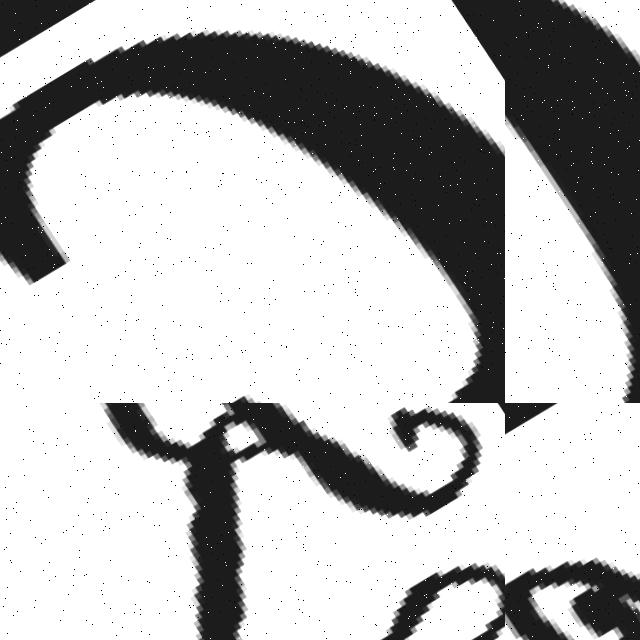C: (0, 32, 505, 403)
G: (505, 0, 640, 403)
R: (0, 403, 443, 640)
W: (576, 403, 640, 640)
